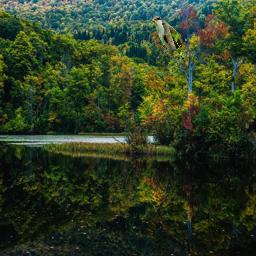Cuckoo: (149, 16, 191, 67)
